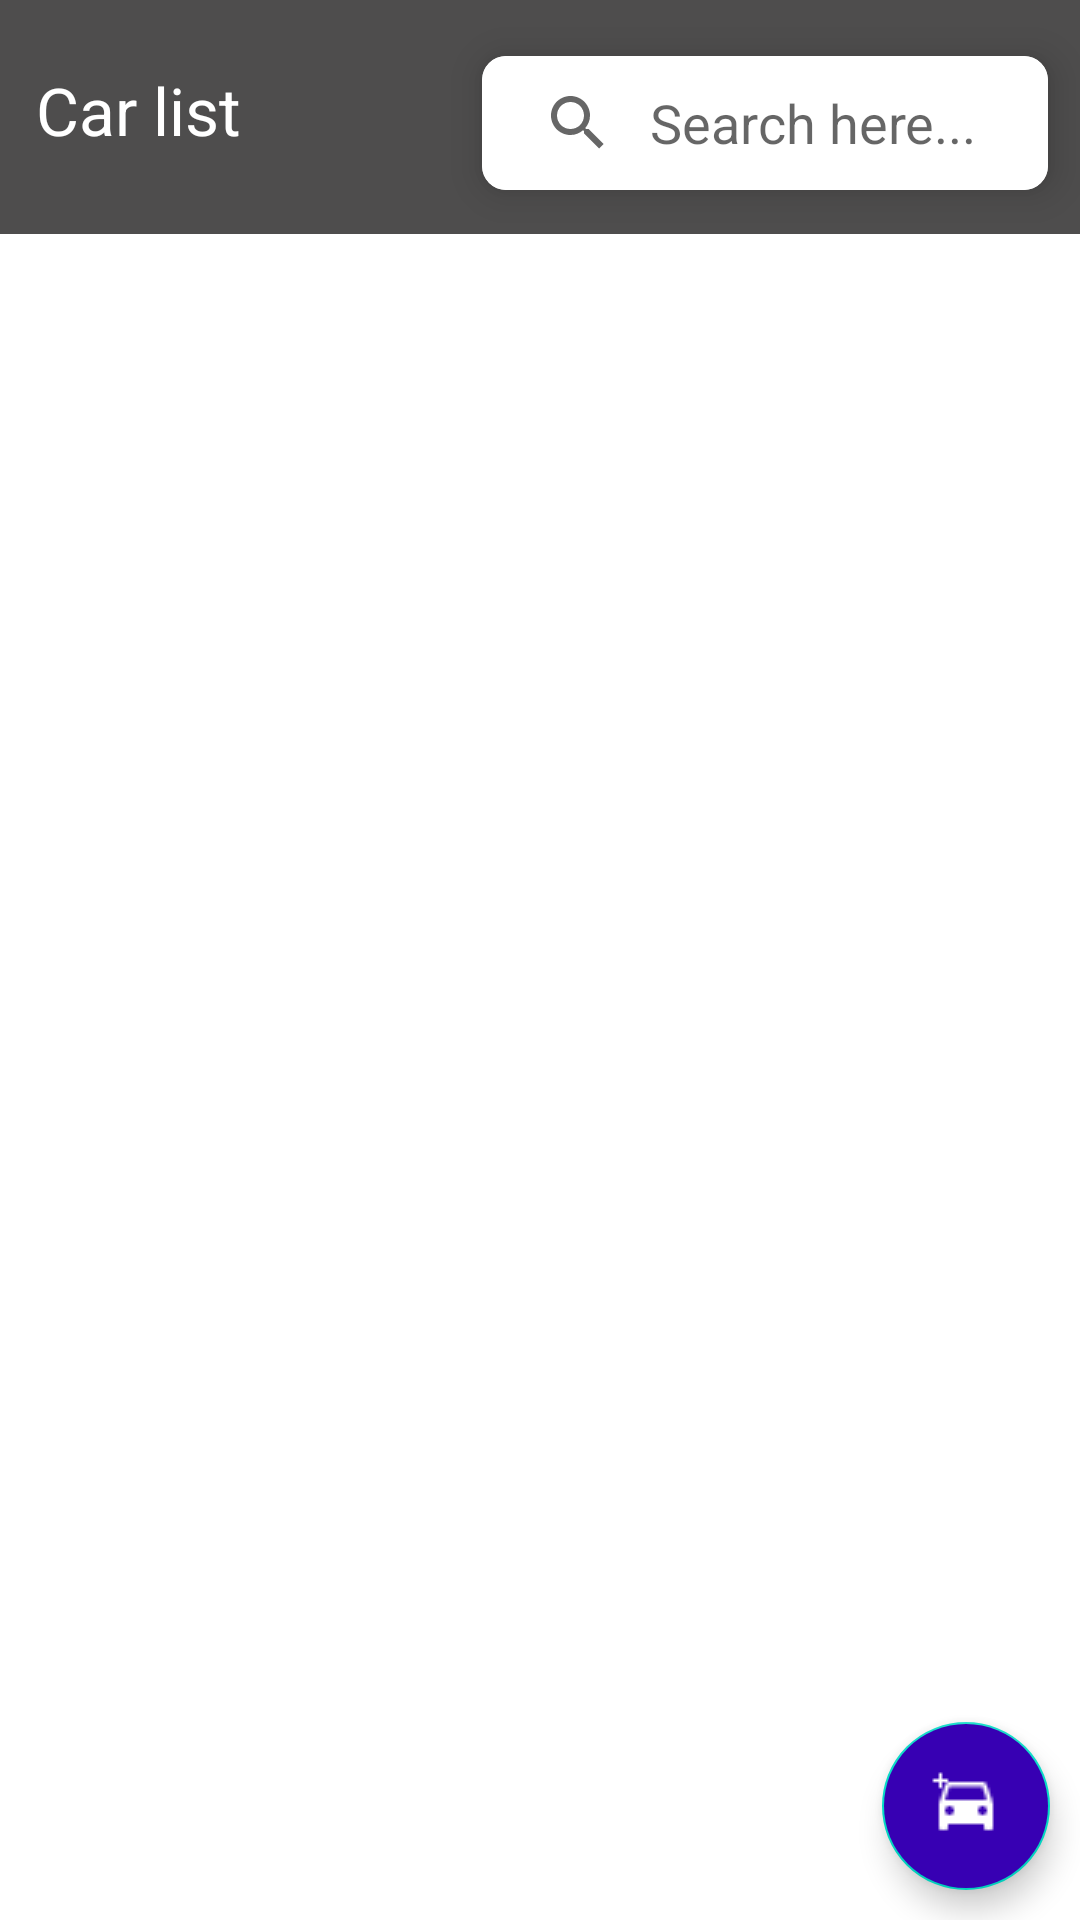

Point at icon controls on the screen. Image size 1080w x 1920h, points as (x=x, y=y).
car: (x=966, y=1806)
